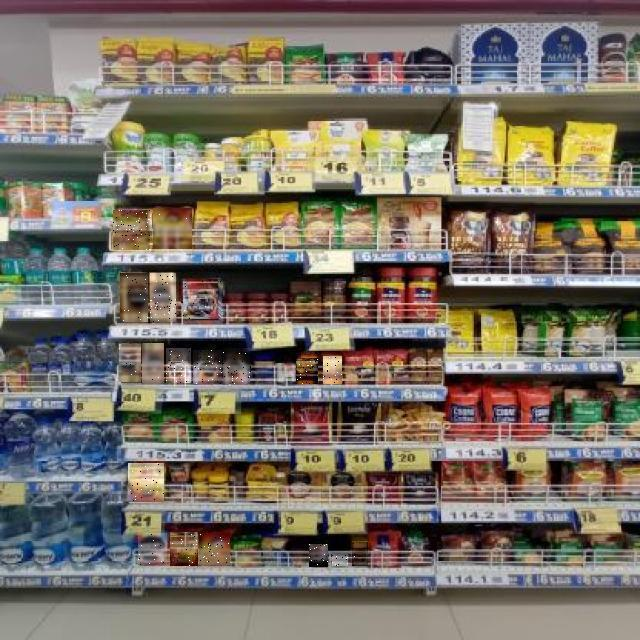Coffee: (184, 280, 222, 324), (153, 208, 192, 249), (114, 210, 152, 250), (128, 463, 164, 502), (120, 273, 148, 322), (150, 273, 176, 322), (224, 348, 252, 384), (199, 533, 230, 565), (193, 350, 222, 384), (170, 532, 198, 566), (138, 533, 167, 565), (142, 343, 164, 383), (166, 348, 191, 383), (119, 344, 141, 382), (297, 358, 319, 384), (323, 356, 342, 384), (309, 544, 328, 567), (352, 543, 368, 567), (332, 554, 348, 566)
